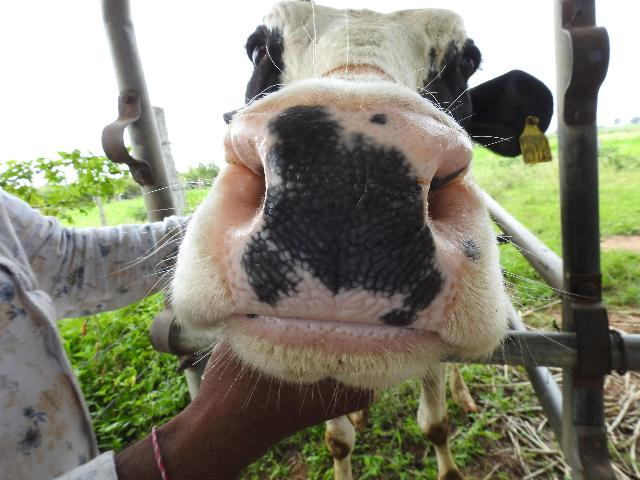Muzzle: (258, 109, 426, 333)
